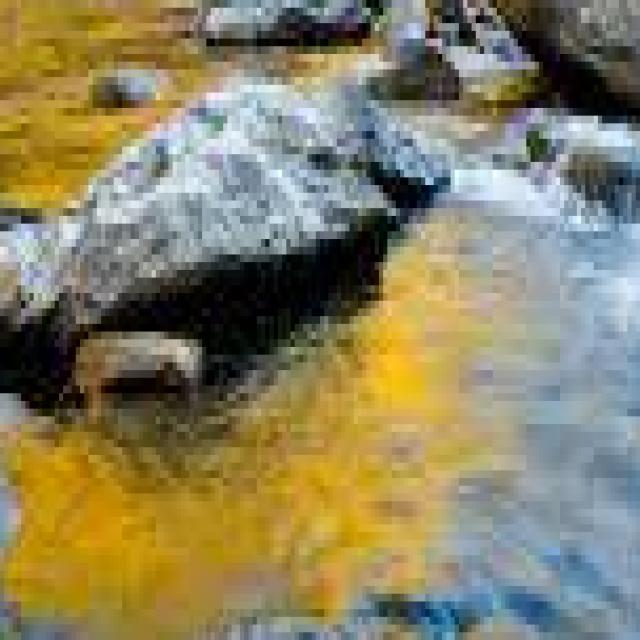-: (463, 293, 640, 601), (0, 62, 152, 100)
